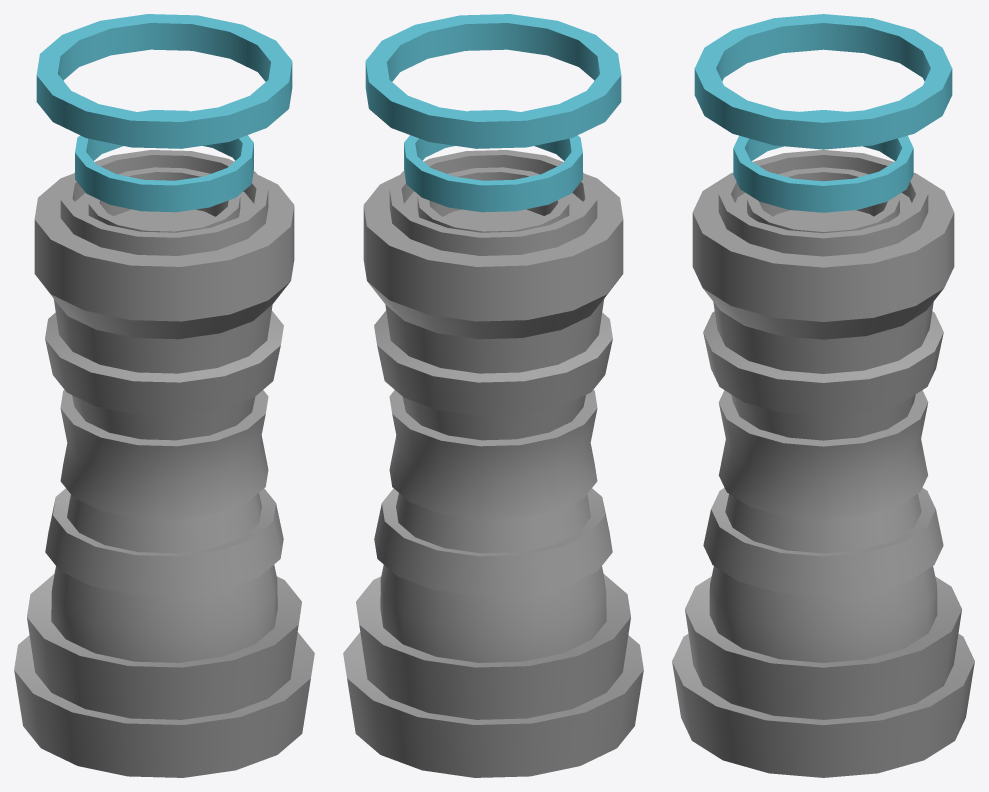
Rendered from Active_Checkpoint.fbx.
The picture shows the model from 3 angles, left to right: view 1: azimuth 30°, elevation 25°; view 2: azimuth 150°, elevation 25°; view 3: azimuth 270°, elevation 25°; orthographic projection.
Visible parts, largest first — view 1: Checkpoint, Large_Ring, Small_Ring; view 2: Checkpoint, Large_Ring, Small_Ring; view 3: Checkpoint, Large_Ring, Small_Ring.
Boxes of the visible parts, x1,y1,x2,y2 form: Checkpoint: (14, 150, 314, 777); Large_Ring: (36, 14, 292, 148); Small_Ring: (75, 110, 253, 212); Checkpoint: (343, 150, 643, 777); Large_Ring: (365, 14, 621, 148); Small_Ring: (404, 110, 582, 212); Checkpoint: (672, 150, 974, 777); Large_Ring: (694, 14, 952, 149); Small_Ring: (733, 110, 913, 212).
Size of the model in its own units: 3.47 by 8.21 by 3.47.
